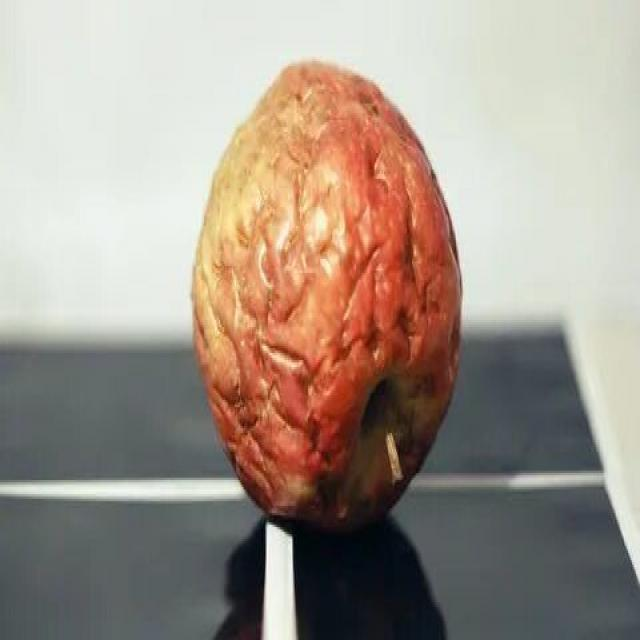Rotten: (195, 75, 455, 532)
